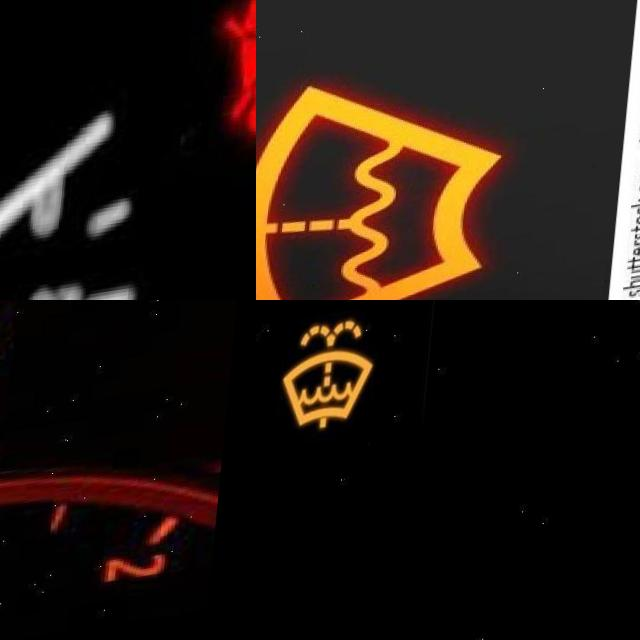Seat Belt: (215, 0, 256, 159)
Washer Fluid: (256, 65, 513, 300), (274, 323, 388, 447)
